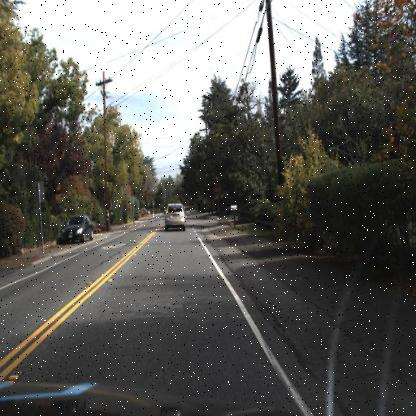car: (60, 210, 95, 243), (160, 198, 190, 232)
